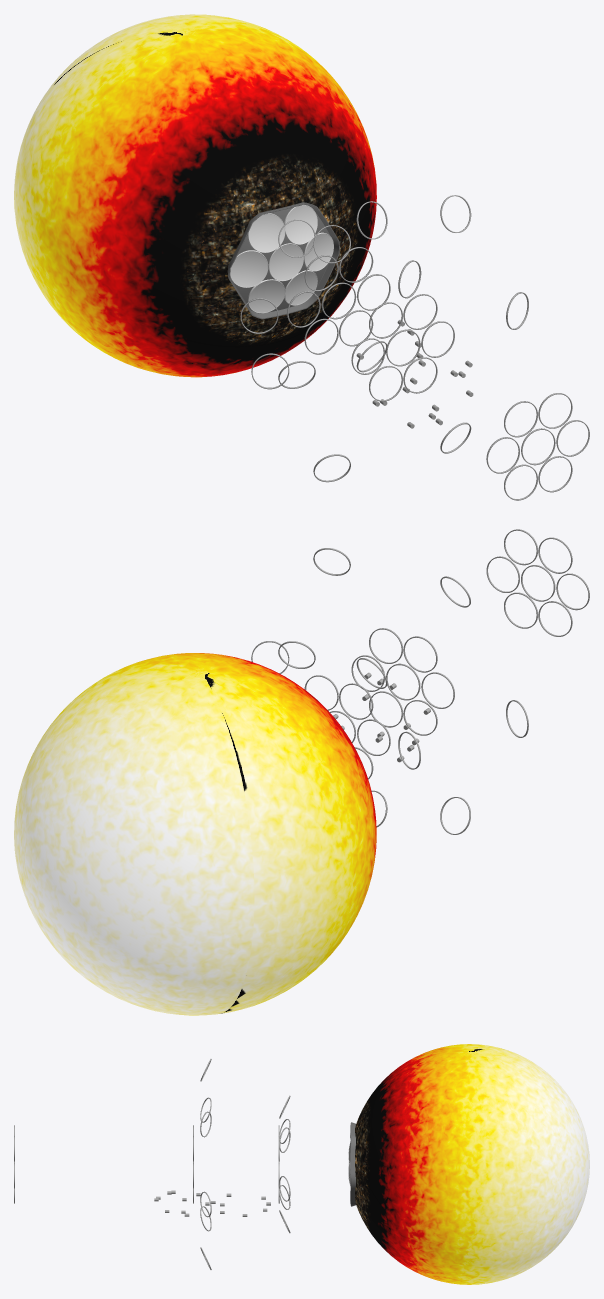
Rendered from planet_ship.glb.
3 views of the same model, one above another, from view 1: azimuth 30°, elevation 25°; view 2: azimuth 150°, elevation 25°; view 3: azimuth 270°, elevation 25° (orthographic). The views are drawn at different scales.
Parts seen in each view (by area): view 1: PlanetShip, Mirrors, EntryRings, AtmosphereWall, Habitats; view 2: PlanetShip, EntryRings; view 3: PlanetShip, EntryRings, AtmosphereWall, Habitats.
Part boxes in pixels (box(x1,y1,x2,y2)): PlanetShip: box(14, 14, 376, 377); Mirrors: box(230, 204, 333, 313); EntryRings: box(240, 195, 589, 500); AtmosphereWall: box(227, 202, 339, 319); Habitats: box(356, 319, 473, 428); PlanetShip: box(14, 653, 376, 1015); EntryRings: box(251, 529, 589, 834); PlanetShip: box(355, 1044, 589, 1284); EntryRings: box(14, 1059, 290, 1269); AtmosphereWall: box(349, 1122, 355, 1206); Habitats: box(154, 1190, 270, 1216).
Size of what is drawn, in the model's own units: 10000 by 10000 by 23911.
Materials: 6 (1 with a texture image).
